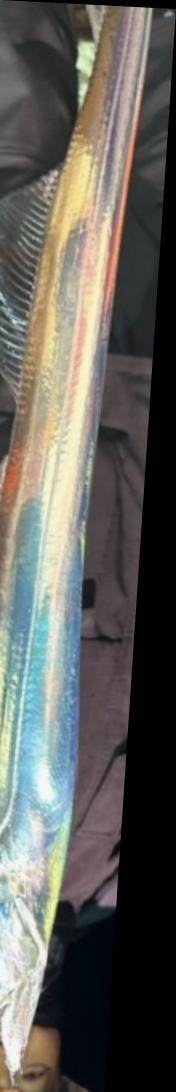fish: (0, 5, 153, 1074)
